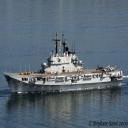Portanaves: (4, 32, 126, 94)
